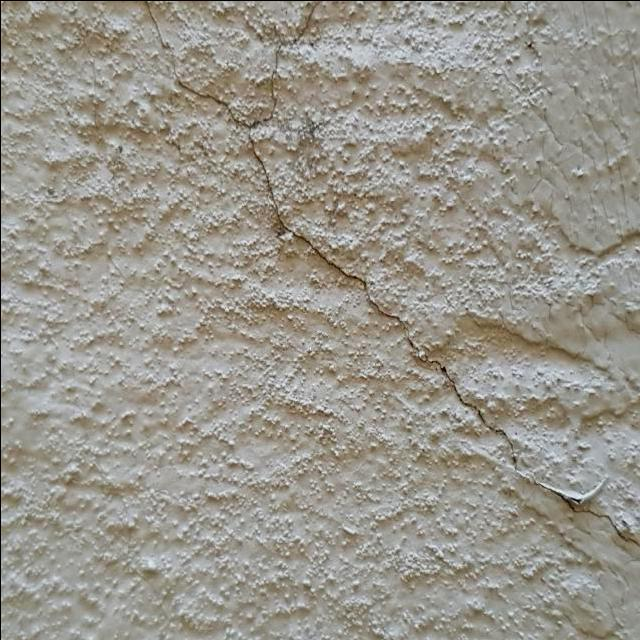SurfaceCrack: (137, 1, 640, 631)
